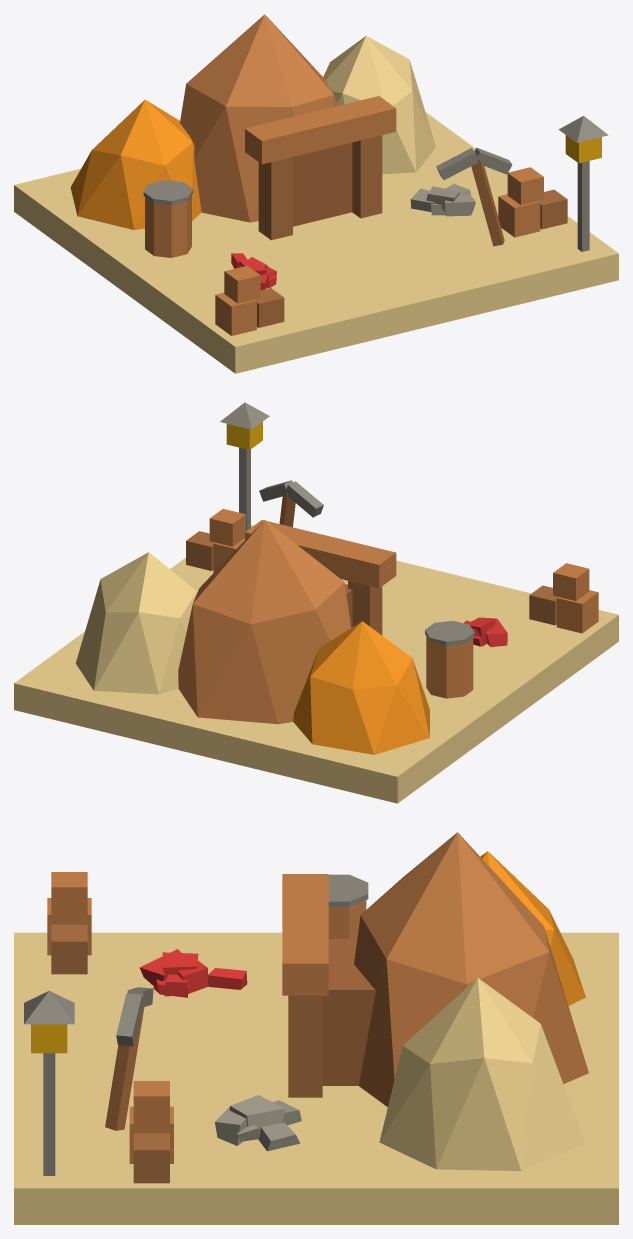
The model's file is mine_t1_v2.glb.
3 renders of one model, top to bottom at view 1: azimuth 30°, elevation 25°; view 2: azimuth 150°, elevation 25°; view 3: azimuth 270°, elevation 25°, orthographic. The views are drawn at different scales.
Parts seen in each view (by area): view 1: mine_t1_v2; view 2: mine_t1_v2; view 3: mine_t1_v2.
Boxes of the visible parts, <box> form: mine_t1_v2: <box>14,14,618,373</box>; mine_t1_v2: <box>14,402,618,803</box>; mine_t1_v2: <box>14,832,618,1224</box>.
Bounding box in the file's own units: 0.6 × 0.29 × 0.6.
1 material, 1 textured.
